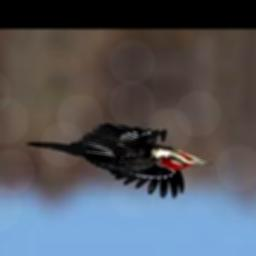Woodpecker: (26, 123, 213, 199)
